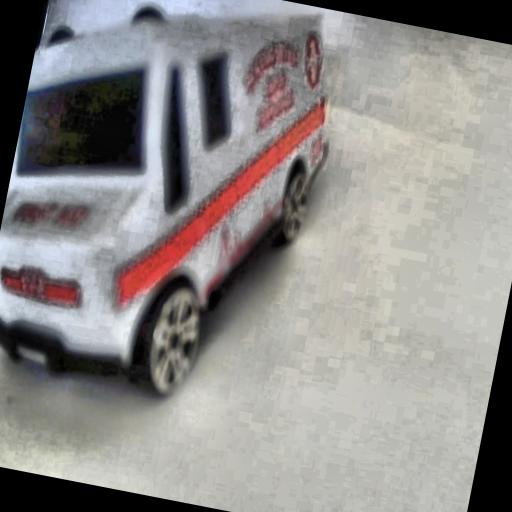ambulance: (0, 0, 355, 421)
